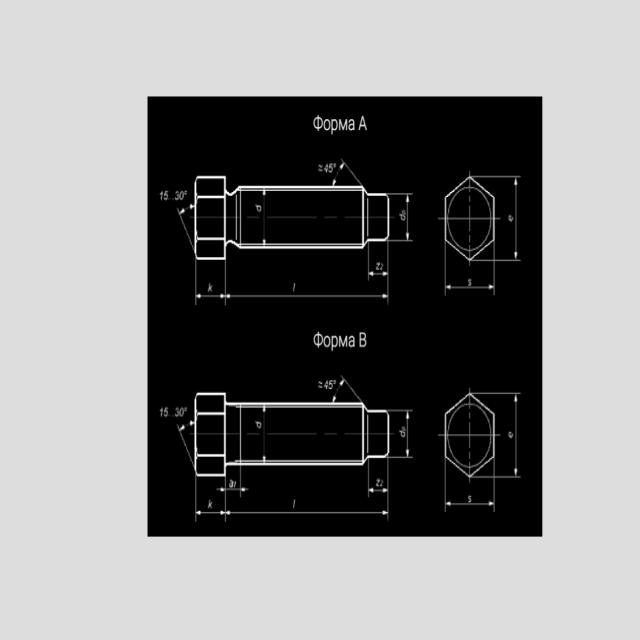marking_line: (224, 291, 388, 301), (225, 509, 388, 518), (177, 419, 195, 471), (315, 375, 346, 403), (511, 178, 520, 260), (512, 394, 520, 478), (446, 282, 495, 294), (258, 189, 268, 245), (330, 163, 347, 185), (447, 499, 493, 507), (404, 413, 411, 457), (176, 203, 194, 219), (195, 292, 224, 301), (406, 195, 411, 240), (196, 509, 223, 517), (369, 487, 388, 496), (370, 270, 389, 278)
numeric: (159, 402, 189, 418), (160, 188, 189, 202), (323, 377, 339, 391)
